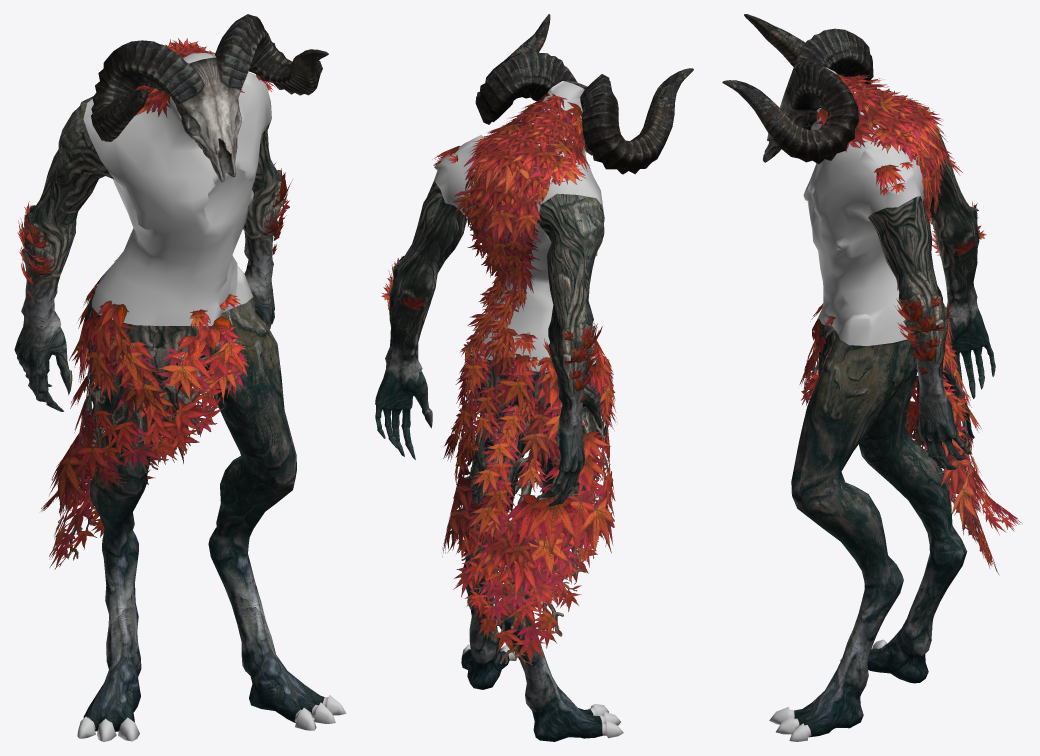
Rendered from cuernos.obj.
3 renders of one model, left to right at view 1: azimuth 30°, elevation 25°; view 2: azimuth 150°, elevation 25°; view 3: azimuth 270°, elevation 25°, orthographic. The views are drawn at different scales.
Parts seen in each view (by area): view 1: 0, 1, 3, 2; view 2: 3, 0, 2, 1; view 3: 0, 1, 3, 2.
Boxes of the visible parts, x1=… form: 0: x1=14, y1=96, x2=324, y2=731; 1: x1=77, y1=52, x2=346, y2=741; 3: x1=17, y1=38, x2=292, y2=569; 2: x1=84, y1=14, x2=328, y2=426; 3: x1=381, y1=93, x2=617, y2=665; 0: x1=375, y1=181, x2=604, y2=741; 2: x1=467, y1=14, x2=693, y2=510; 1: x1=434, y1=81, x2=623, y2=738; 0: x1=791, y1=127, x2=995, y2=737; 1: x1=769, y1=67, x2=924, y2=741; 3: x1=799, y1=73, x2=1022, y2=575; 2: x1=722, y1=14, x2=974, y2=438.
Bounding box in the file's own units: 0.8101 × 2.21 × 0.9355.
